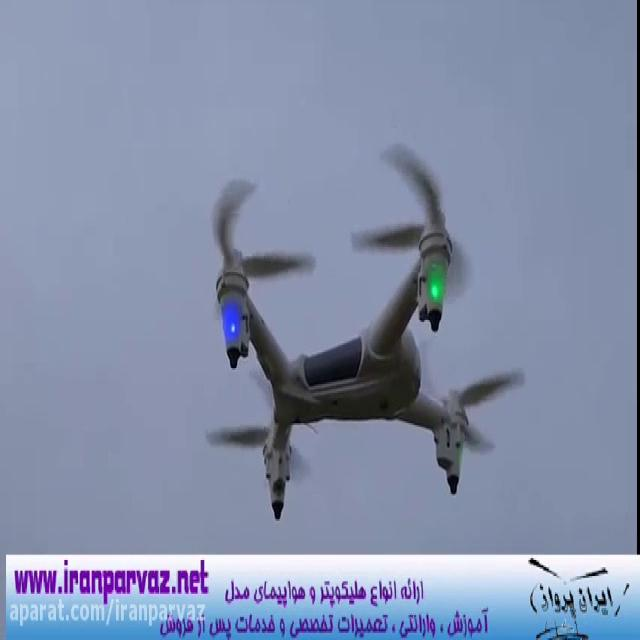drone: (198, 133, 528, 523)
